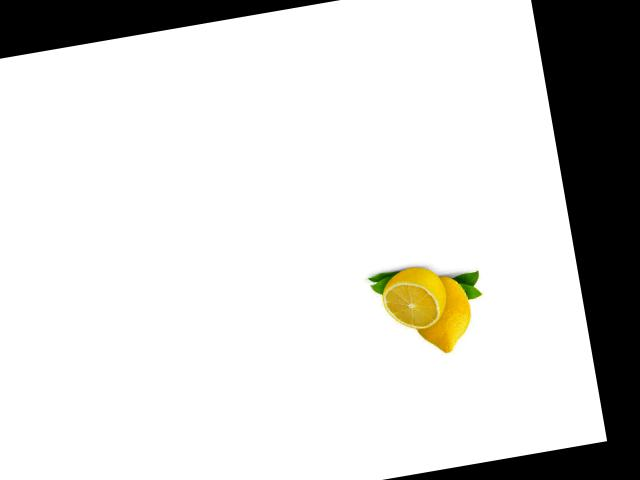lemon: (404, 264, 484, 359)
